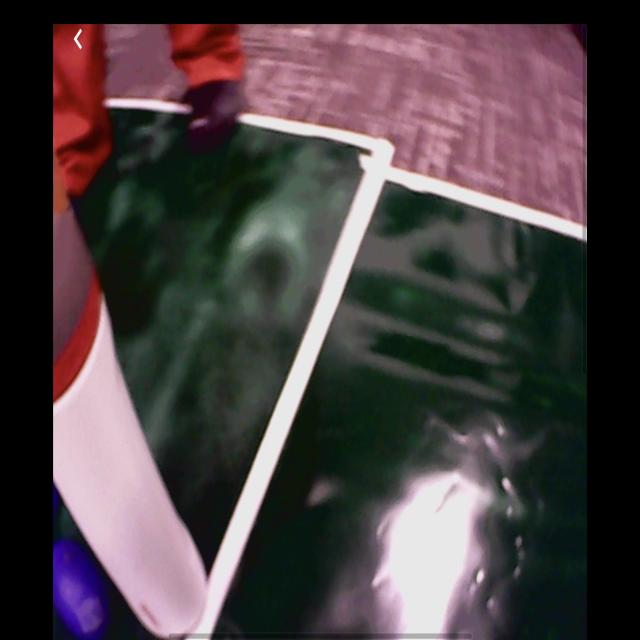ball: (56, 535, 111, 635)
